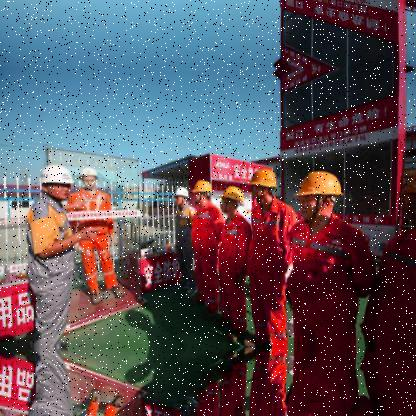Helmet: (295, 160, 340, 224), (40, 164, 76, 204), (250, 158, 278, 206), (193, 173, 216, 208), (80, 164, 102, 190), (223, 184, 242, 214), (176, 182, 188, 209)
